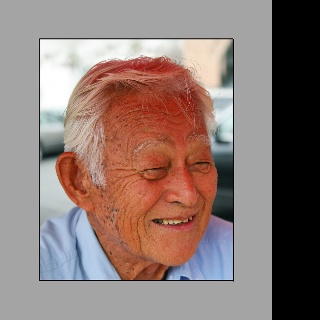without_mask: (81, 91, 219, 266)
